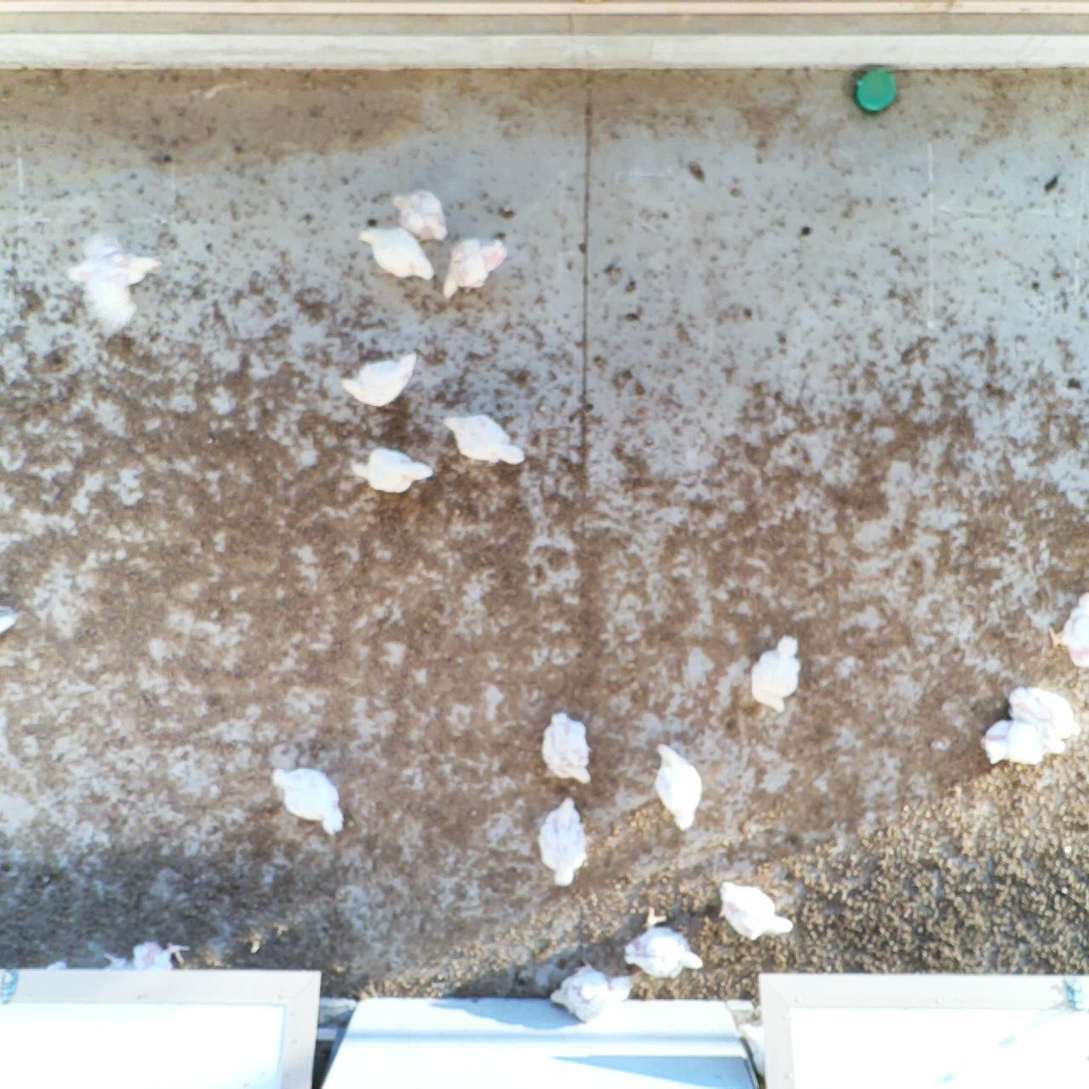chicken: (63, 223, 166, 341), (258, 759, 350, 838), (621, 902, 710, 983), (543, 954, 647, 1023), (640, 738, 706, 832), (530, 794, 593, 891), (709, 876, 795, 946), (335, 348, 423, 413), (440, 407, 529, 467), (436, 233, 509, 306), (535, 707, 599, 789), (349, 441, 439, 499), (357, 221, 435, 287), (1003, 680, 1084, 741), (976, 716, 1071, 767), (748, 630, 804, 716), (388, 182, 452, 244), (1041, 588, 1089, 670), (127, 932, 194, 973)
